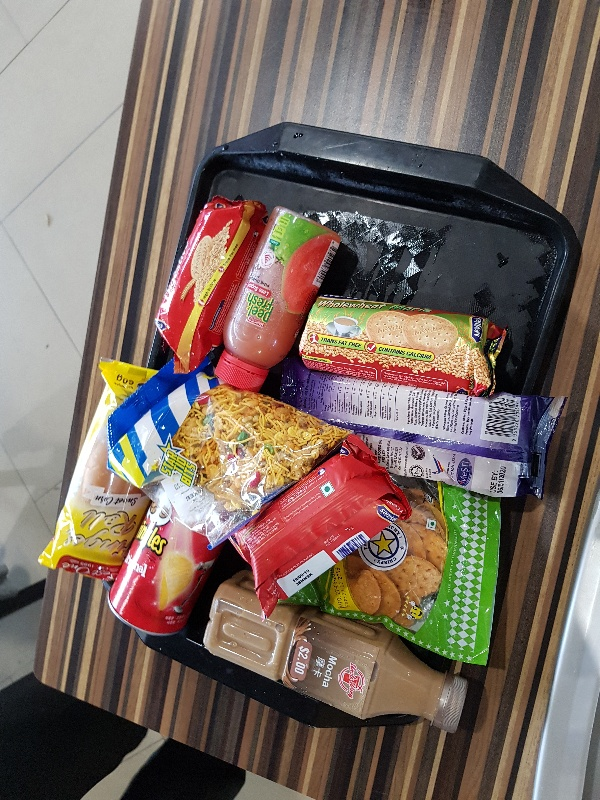Marigold Peel Fresh Pink Guava Juice Drink: (214, 205, 341, 392)
McVitie's Wholewheat Marie: (295, 294, 507, 396)
Mcvitie's Digestive: (228, 429, 416, 617), (155, 196, 265, 372)
Mocha: (201, 571, 469, 733)
Pringles Original: (107, 501, 222, 637)
Star Tidbits 'O' Ring: (277, 475, 501, 664)
Star Tidbits Mixer: (107, 355, 353, 549)
Tinges Roll Chocolate: (276, 359, 568, 500)
Tinges Roll Sweet Corn: (36, 355, 158, 580)
